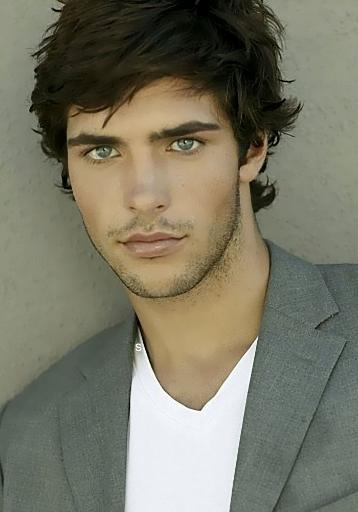left_eye: (165, 136, 212, 157)
left_lip_corner: (172, 231, 192, 249)
right_eye: (82, 145, 124, 164)
right_lip_corner: (116, 235, 133, 254)
